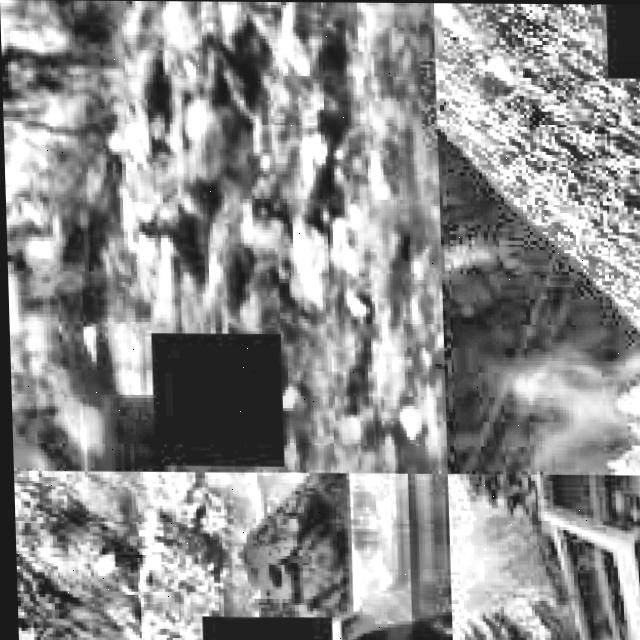dump_truck: (217, 472, 445, 640)
excavator: (0, 0, 245, 469), (1, 37, 177, 469)
